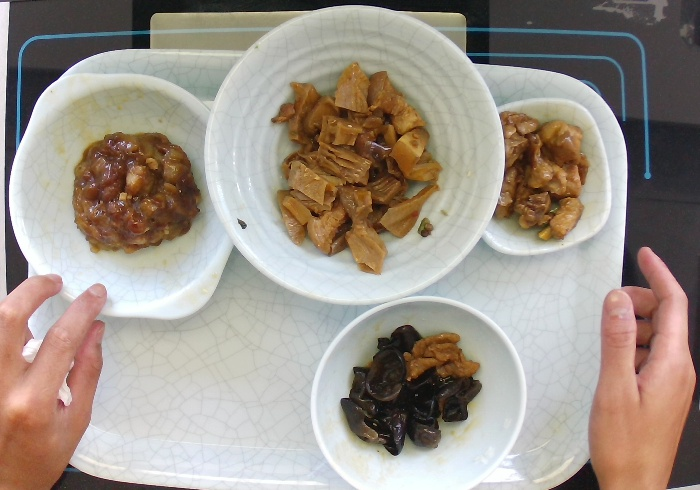JYsf-Fan_Wan: (305, 292, 530, 490)
JYsf-Shuang_Er_Wan: (5, 67, 239, 325)
JYsf-Si_Fang_Die: (475, 93, 616, 258)
JYsf-Xiao_Tang_Wan: (199, 2, 509, 309)
